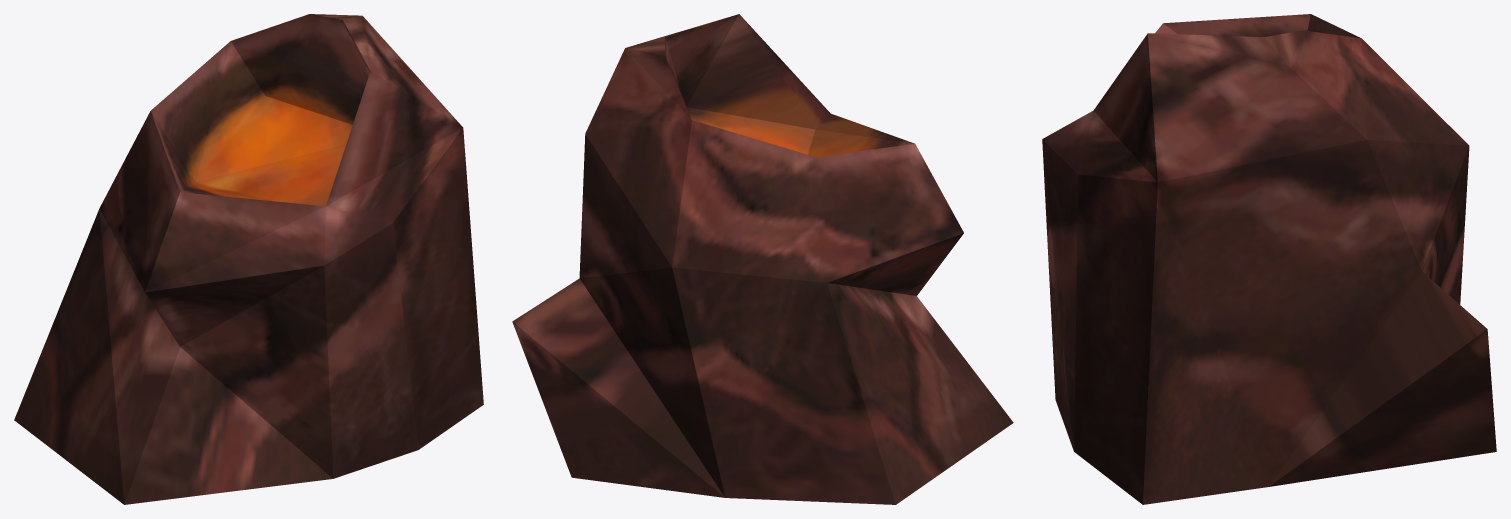
Rendered from stalacmite_lavapool.fbx.
3 renders of one model, left to right at view 1: azimuth 30°, elevation 25°; view 2: azimuth 150°, elevation 25°; view 3: azimuth 270°, elevation 25°, orthographic. The views are drawn at different scales.
Visible parts, largest first — view 1: obj0.021; view 2: obj0.021; view 3: obj0.021.
Part boxes in pixels (x1,y1,x2,y2): obj0.021: (14,14,483,504); obj0.021: (512,14,1013,504); obj0.021: (1042,14,1496,504).
Bounding box in the file's own units: 1.39 × 1.31 × 1.29.
